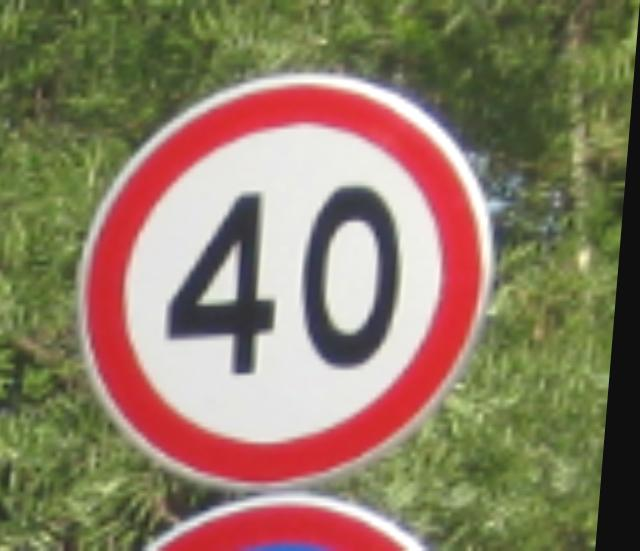limit40: (61, 70, 521, 500)
